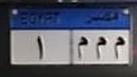1: (34, 34, 46, 60)
meem: (74, 35, 90, 61), (112, 35, 126, 61), (94, 36, 108, 61)
